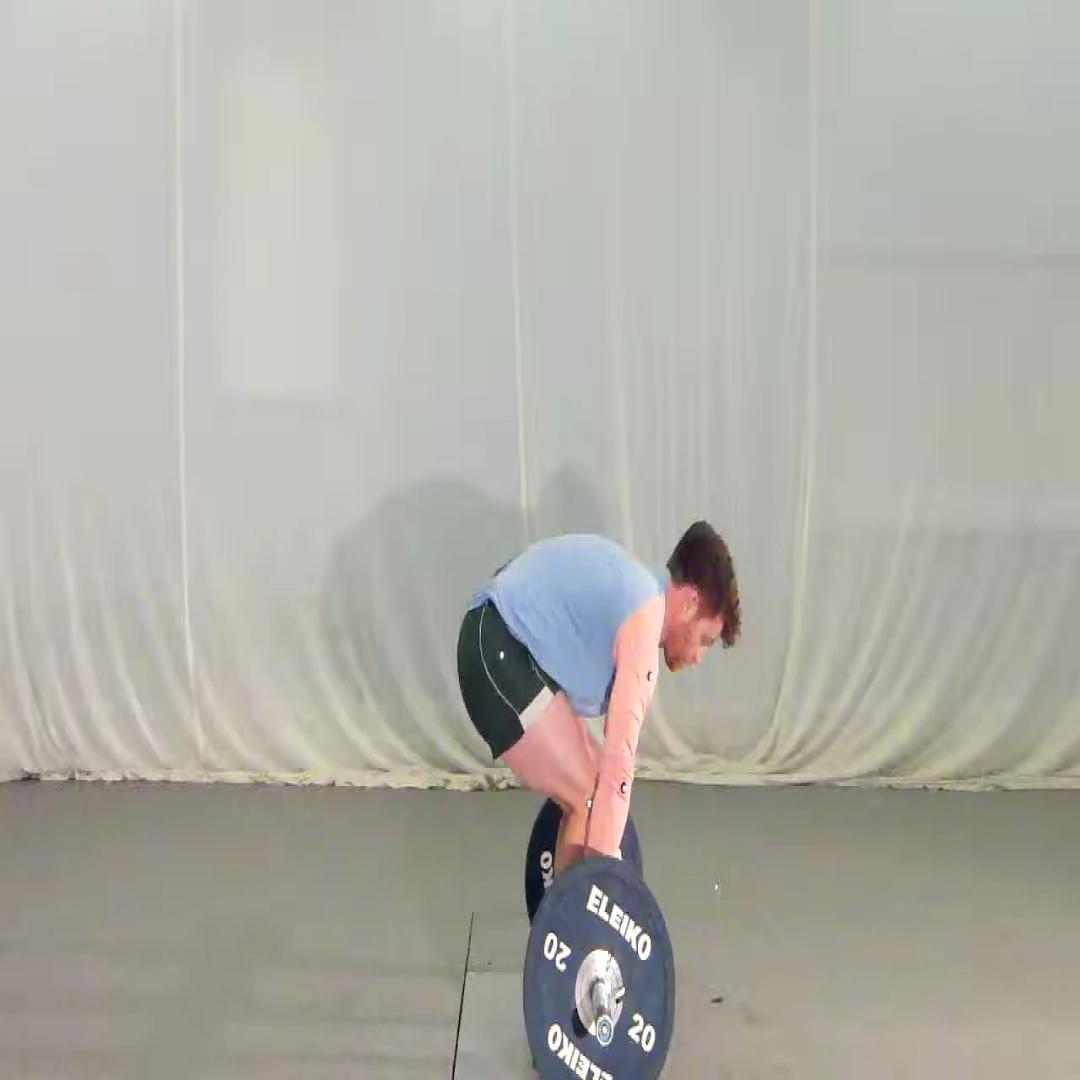Bar: (596, 1014, 614, 1048)
Barbell: (523, 860, 676, 1078)
